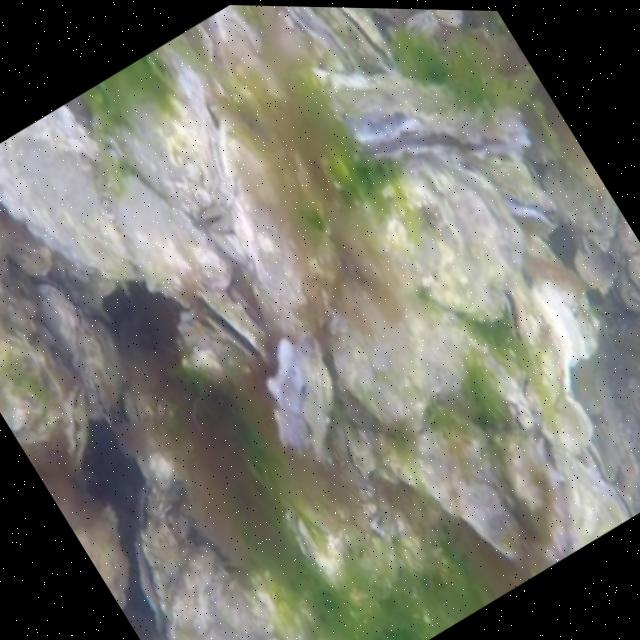Oyster-Closed: (503, 284, 589, 415), (554, 450, 635, 560), (132, 483, 181, 628), (315, 7, 400, 71), (286, 508, 351, 590), (287, 6, 356, 72), (31, 275, 78, 357), (65, 384, 88, 466), (408, 10, 437, 44), (583, 445, 609, 480), (432, 10, 463, 26)
Oyster-Indeterminate: (0, 104, 228, 293), (340, 154, 525, 321), (327, 277, 476, 427), (383, 406, 529, 556), (116, 174, 220, 292), (167, 542, 270, 640), (0, 332, 65, 442), (543, 160, 617, 249), (459, 482, 524, 558), (543, 400, 592, 451), (631, 254, 640, 287)
Oyster-Open: (308, 67, 527, 163), (269, 335, 335, 460), (195, 288, 275, 366), (340, 86, 422, 145), (487, 160, 560, 225), (204, 207, 232, 231), (221, 561, 244, 575)
